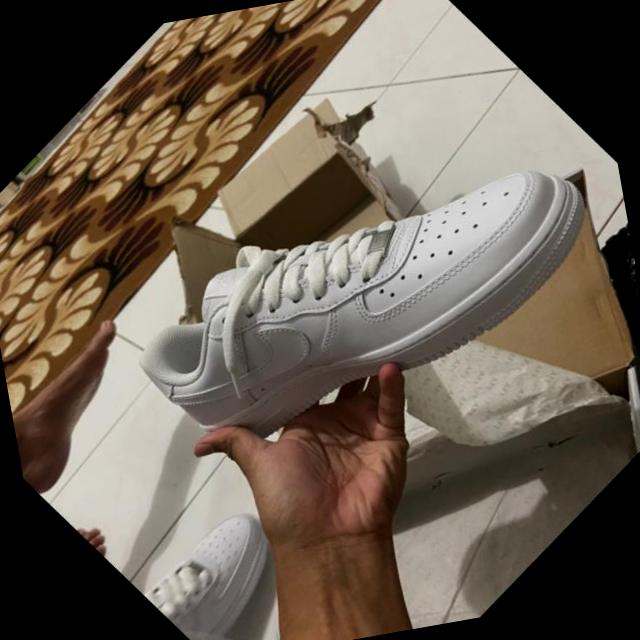nike_original_airforce: (71, 18, 640, 565)
